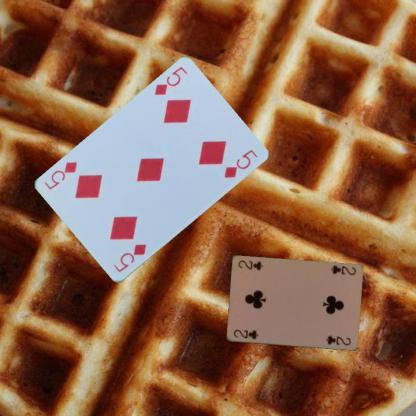2c: (230, 327, 259, 340), (328, 263, 357, 276)
5d: (110, 241, 148, 274), (152, 64, 188, 97)
